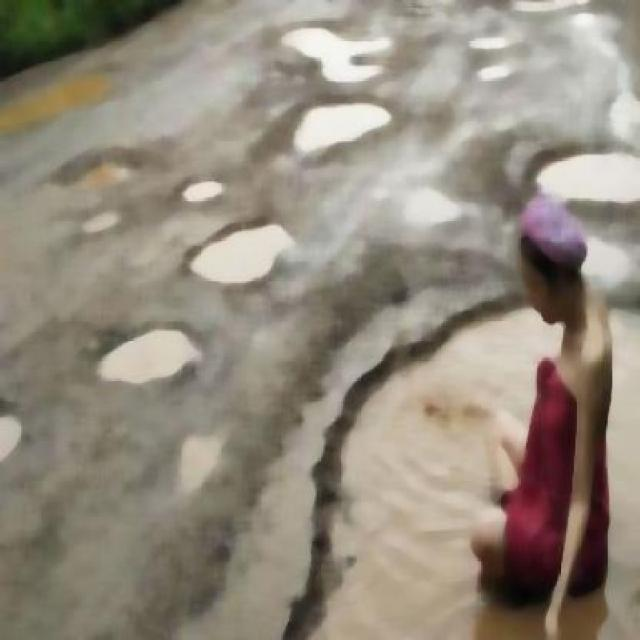Pothole: (2, 61, 162, 139), (522, 117, 640, 215), (292, 77, 400, 177), (281, 18, 410, 92), (87, 322, 211, 396), (284, 18, 402, 90), (190, 234, 295, 312), (462, 28, 532, 86), (179, 162, 236, 218), (2, 362, 29, 476), (491, 0, 609, 25), (389, 0, 471, 31)
